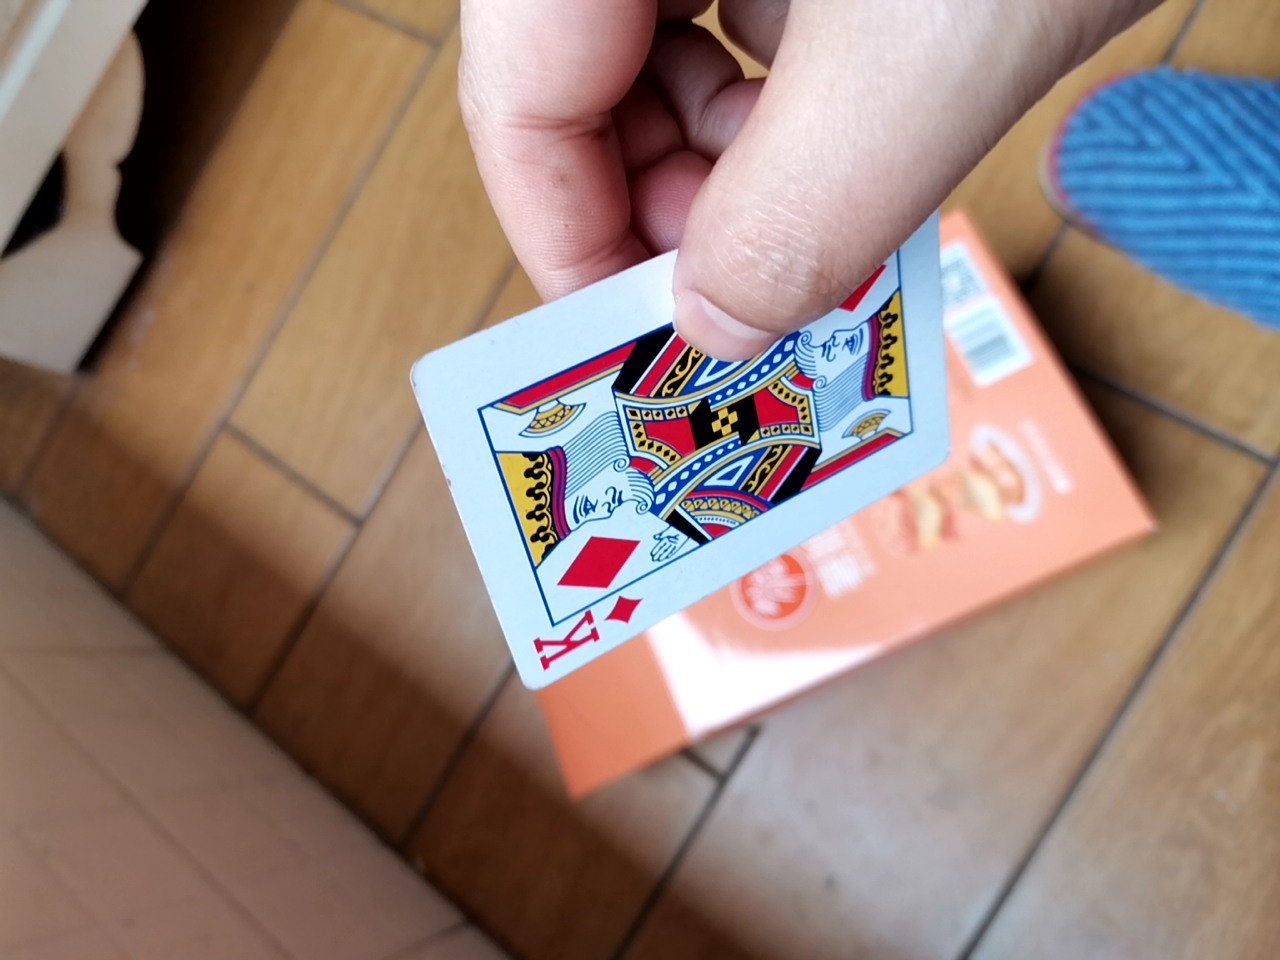fk k: (399, 231, 1027, 713)
